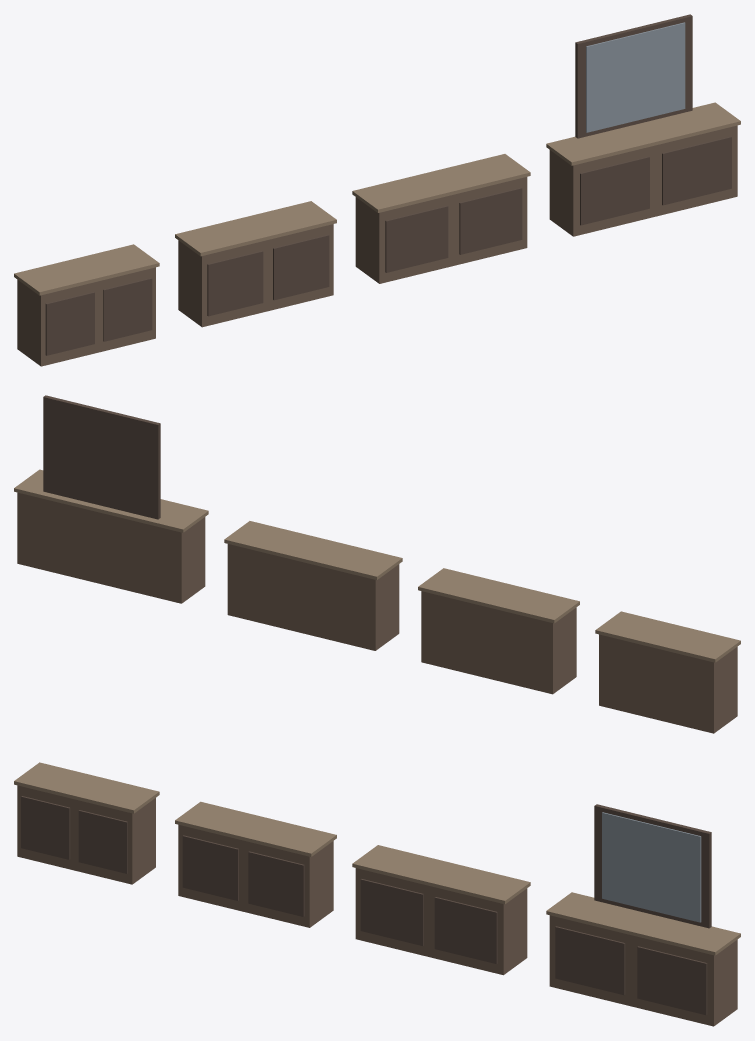
The model's file is comoda.glb.
3 renders of one model, top to bottom at view 1: azimuth 30°, elevation 25°; view 2: azimuth 150°, elevation 25°; view 3: azimuth 330°, elevation 25°, orthographic.
Visible parts, largest first — view 1: Comoda_200_espejo, Comoda_180, Comoda_160, Comoda_140; view 2: Comoda_200_espejo, Comoda_180, Comoda_160, Comoda_140; view 3: Comoda_200_espejo, Comoda_180, Comoda_160, Comoda_140.
Part boxes in pixels (x1,y1,x2,y2): Comoda_200_espejo: (546, 14, 740, 236); Comoda_180: (352, 154, 530, 283); Comoda_160: (175, 201, 336, 327); Comoda_140: (14, 244, 159, 366); Comoda_200_espejo: (14, 395, 208, 603); Comoda_180: (224, 521, 402, 650); Comoda_160: (418, 568, 579, 694); Comoda_140: (595, 611, 740, 733); Comoda_200_espejo: (546, 804, 740, 1026); Comoda_180: (352, 845, 530, 975); Comoda_160: (175, 801, 336, 927); Comoda_140: (14, 762, 159, 884).
Size of the model in its own units: 8.54 by 2 by 0.54.
